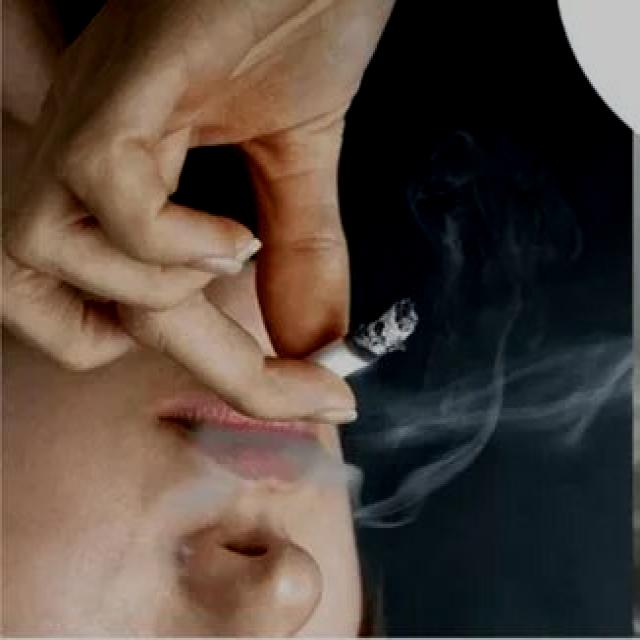smoke: (302, 296, 426, 382)
